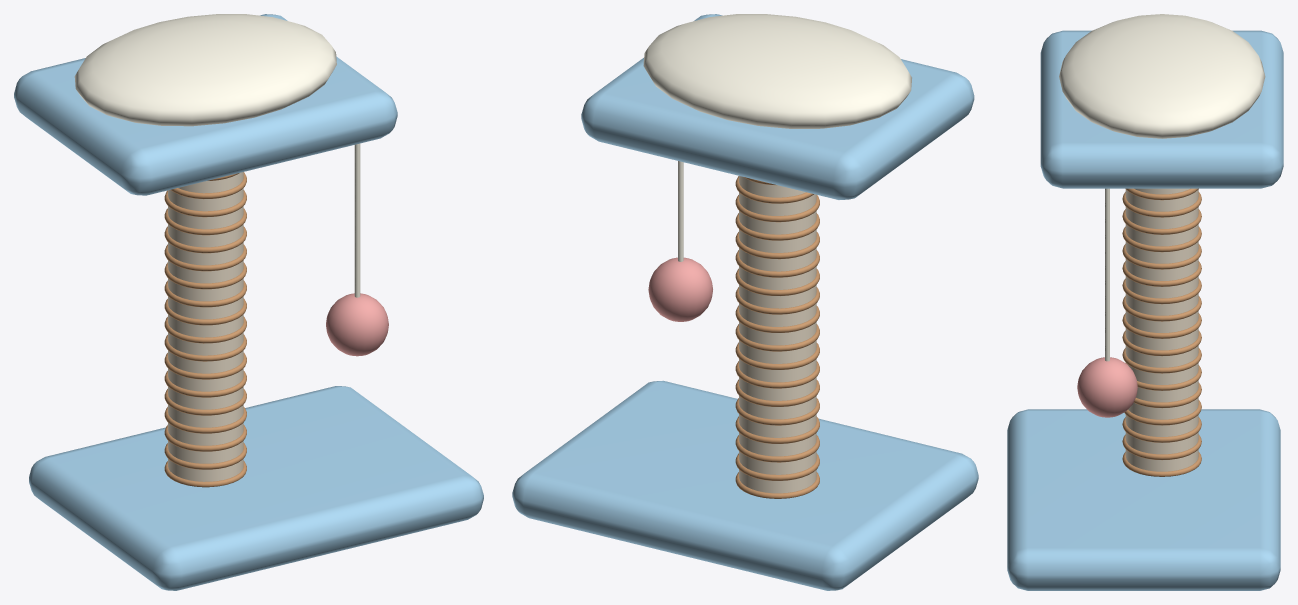
File: catTreeBlue.glb
3 renders of one model, left to right at view 1: azimuth 30°, elevation 25°; view 2: azimuth 150°, elevation 25°; view 3: azimuth 270°, elevation 25°, orthographic. The views are drawn at different scales.
Visible parts, largest first — view 1: Cat tree base, Upper perch, Cushion, Sisal post, Dangling toy, Hanging toy string, Rope ring.004, Rope ring.005, Rope ring.007, Rope ring.010, Rope ring.003, Rope ring.006 (+9 smaller); view 2: Cat tree base, Upper perch, Cushion, Sisal post, Dangling toy, Rope ring.012, Rope ring.014, Rope ring.010, Rope ring.006, Rope ring.008, Rope ring.002, Rope ring.004 (+10 smaller); view 3: Cat tree base, Cushion, Upper perch, Sisal post, Dangling toy, Hanging toy string, Rope ring.006, Rope ring.009, Rope ring.012, Rope ring.015, Rope ring.002, Rope ring.011 (+11 smaller).
Part boxes in pixels (x1,y1,x2,y2): Cat tree base: (29, 386, 483, 590); Upper perch: (14, 14, 397, 195); Cushion: (74, 14, 336, 126); Sisal post: (168, 172, 243, 481); Dangling toy: (326, 293, 388, 356); Hanging toy string: (354, 143, 360, 297); Rope ring.004: (164, 389, 246, 415); Rope ring.005: (164, 371, 246, 397); Rope ring.007: (164, 334, 246, 361); Rope ring.010: (164, 280, 246, 307); Rope ring.003: (164, 407, 246, 433); Rope ring.006: (164, 353, 246, 379); Cat tree base: (512, 380, 978, 590); Upper perch: (581, 14, 974, 199); Cushion: (643, 14, 911, 128); Sisal post: (739, 176, 816, 493); Dangling toy: (648, 257, 712, 321); Rope ring.012: (735, 250, 819, 277); Rope ring.014: (735, 213, 819, 240); Rope ring.010: (735, 287, 819, 314); Rope ring.006: (735, 361, 819, 388); Rope ring.008: (735, 324, 819, 351); Rope ring.002: (735, 435, 819, 462); Rope ring.004: (735, 398, 819, 425); Cat tree base: (1007, 409, 1280, 590); Cushion: (1059, 14, 1265, 138); Upper perch: (1040, 30, 1283, 188); Sisal post: (1125, 188, 1198, 471); Dangling toy: (1077, 357, 1137, 417); Hanging toy string: (1105, 188, 1109, 361); Rope ring.006: (1122, 348, 1201, 373); Rope ring.009: (1122, 296, 1201, 321); Rope ring.012: (1122, 244, 1201, 269); Rope ring.015: (1122, 192, 1201, 217); Rope ring.002: (1122, 417, 1201, 442); Rope ring.011: (1122, 261, 1201, 286).
Bounding box in the file's own units: 1.25 × 1.64 × 0.91.
